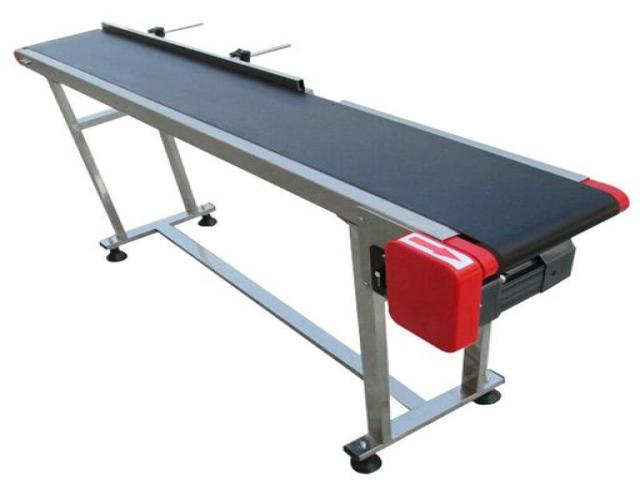conveyor: (10, 18, 631, 475)
